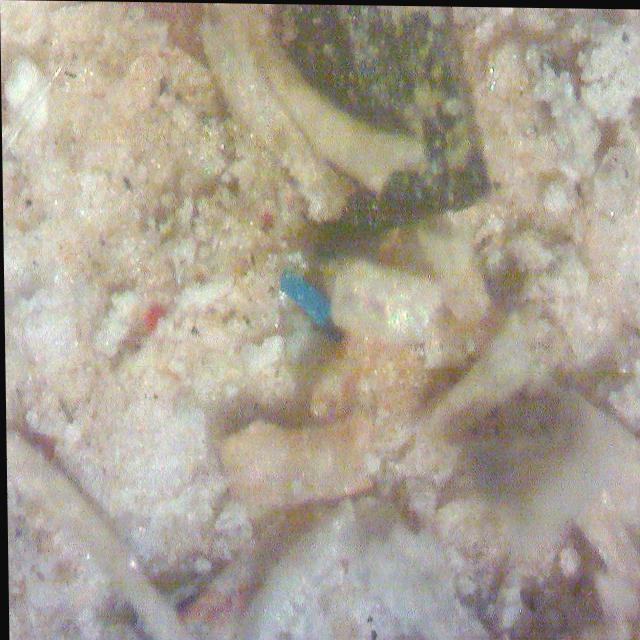microplastic: (278, 268, 342, 342)
